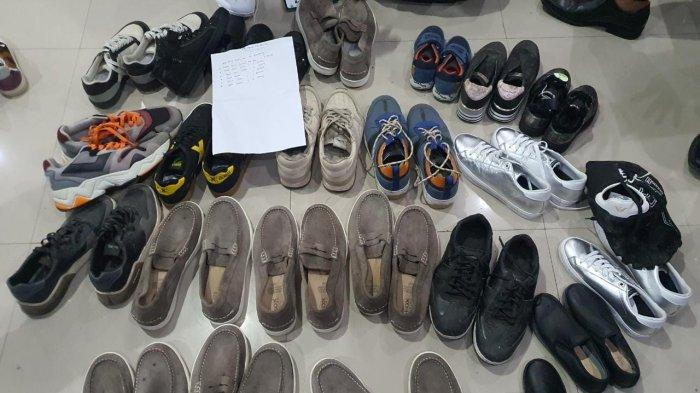sepatu: (432, 209, 533, 370), (134, 196, 250, 331), (39, 101, 179, 208), (345, 185, 431, 352), (255, 192, 349, 342), (455, 121, 596, 220), (363, 86, 463, 209)
